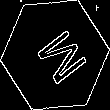M_SW: (24, 22, 86, 88)
